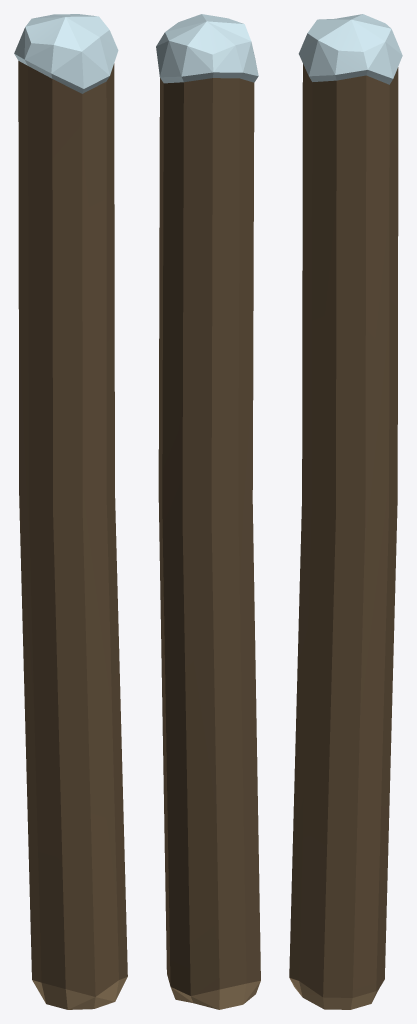
File: Palo_Cerca02.glb
3 renders of one model, left to right at view 1: azimuth 90°, elevation 25°; view 2: azimuth 150°, elevation 25°; view 3: azimuth 270°, elevation 25°, orthographic.
Parts seen in each view (by area): view 1: SM_Prop_Fence_Wood_Pole_02_Snow; view 2: SM_Prop_Fence_Wood_Pole_02_Snow; view 3: SM_Prop_Fence_Wood_Pole_02_Snow.
Boxes of the visible parts, bbox=[...] form: SM_Prop_Fence_Wood_Pole_02_Snow: bbox=[14, 14, 127, 1009]; SM_Prop_Fence_Wood_Pole_02_Snow: bbox=[156, 14, 260, 1009]; SM_Prop_Fence_Wood_Pole_02_Snow: bbox=[289, 14, 402, 1009].
Bounding box in the file's own units: 0.3712 × 4.03 × 0.4231.
1 material, 1 textured.
